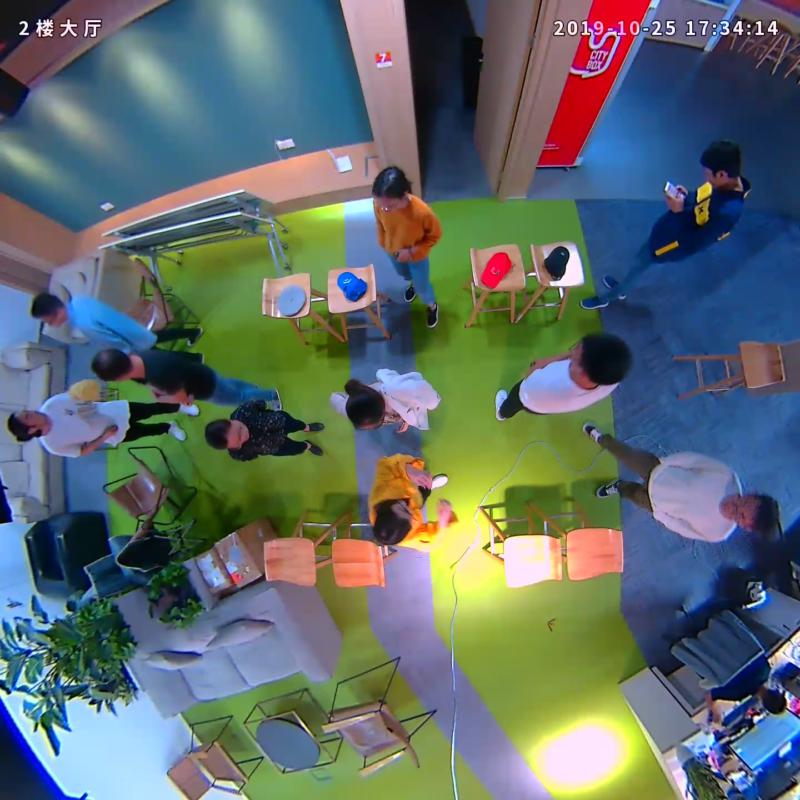head: (569, 332, 631, 386), (721, 493, 780, 538), (699, 137, 740, 185), (374, 499, 411, 548), (345, 386, 385, 430), (371, 166, 407, 210), (90, 348, 133, 383), (205, 417, 248, 450), (7, 409, 47, 440), (30, 293, 65, 326)
